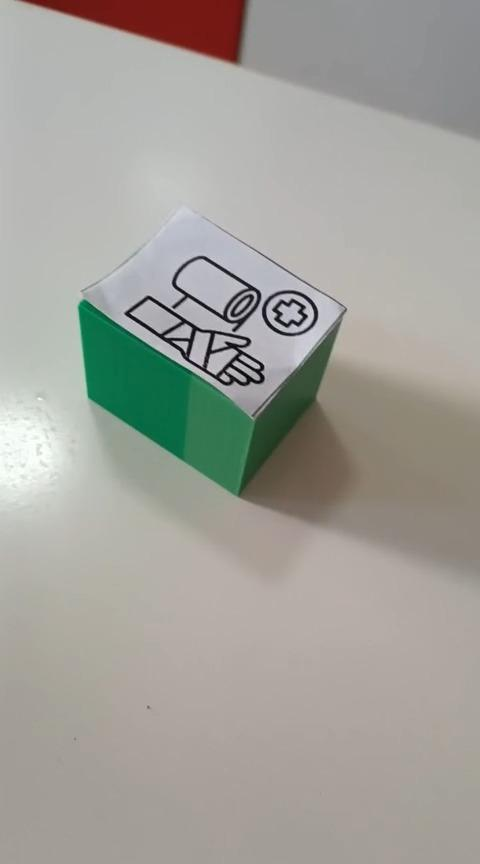Bandages: (76, 204, 347, 497)
